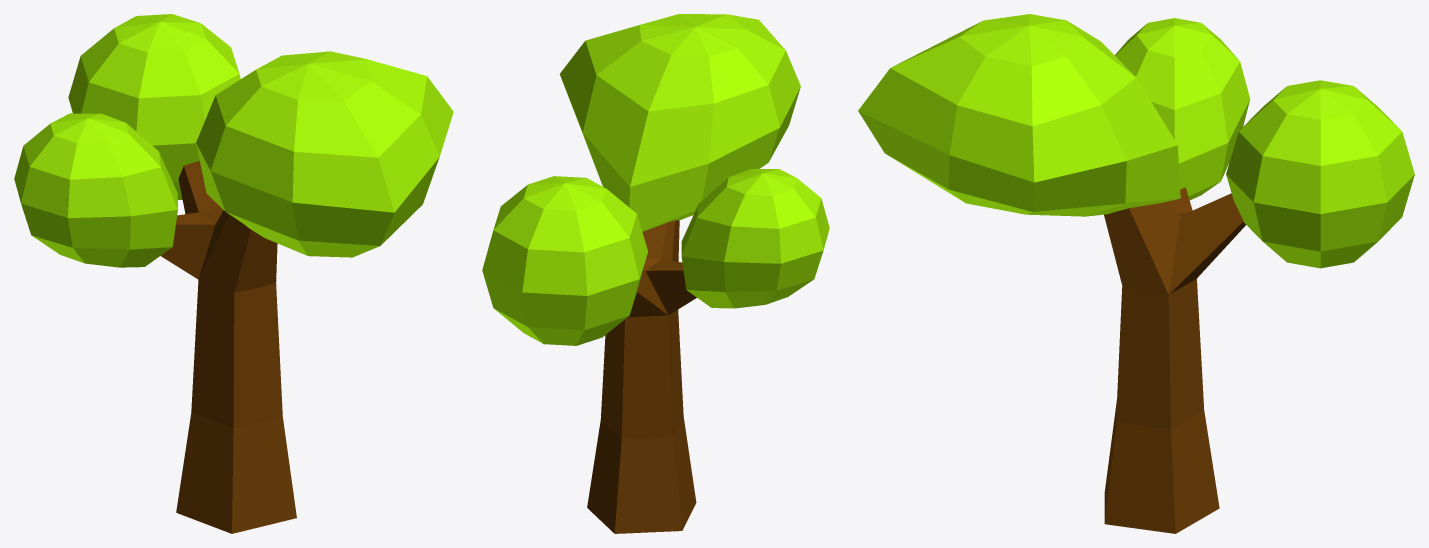
Rendered from tree.fbx.
The picture shows the model from 3 angles, left to right: view 1: azimuth 30°, elevation 25°; view 2: azimuth 150°, elevation 25°; view 3: azimuth 270°, elevation 25°; orthographic projection. The views are drawn at different scales.
Visible parts, largest first — view 1: Sphere.001, GD_mesh, Sphere.002, Sphere; view 2: Sphere.001, GD_mesh, Sphere, Sphere.002; view 3: Sphere.001, GD_mesh, Sphere, Sphere.002.
Boxes of the visible parts, x1,y1,x2,y2 form: Sphere.001: (196, 51, 453, 257); GD_mesh: (161, 161, 296, 533); Sphere.002: (14, 113, 177, 267); Sphere: (68, 14, 240, 199); Sphere.001: (560, 14, 800, 231); GD_mesh: (587, 220, 696, 533); Sphere: (482, 176, 647, 345); Sphere.002: (681, 169, 829, 308); Sphere.001: (858, 14, 1180, 216); GD_mesh: (1104, 187, 1245, 533); Sphere: (1226, 80, 1414, 268); Sphere.002: (1114, 18, 1250, 200).
Bounding box in the file's own units: 441 × 568 × 590.
